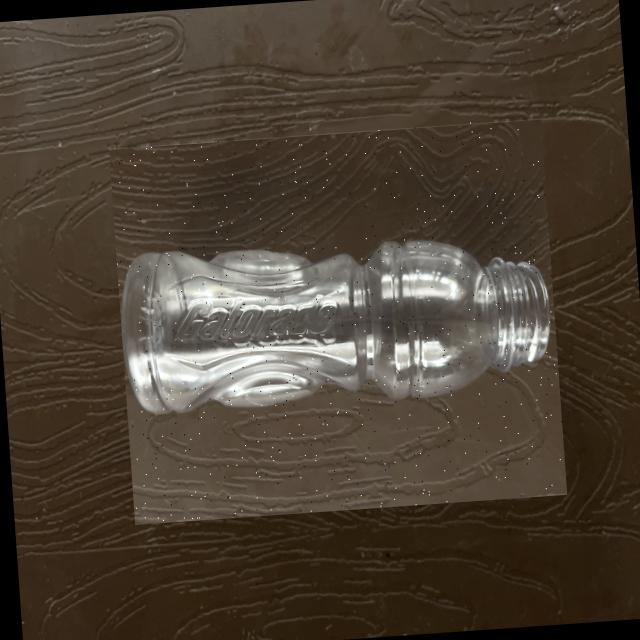PET_ClearBottle: (108, 117, 566, 524)
